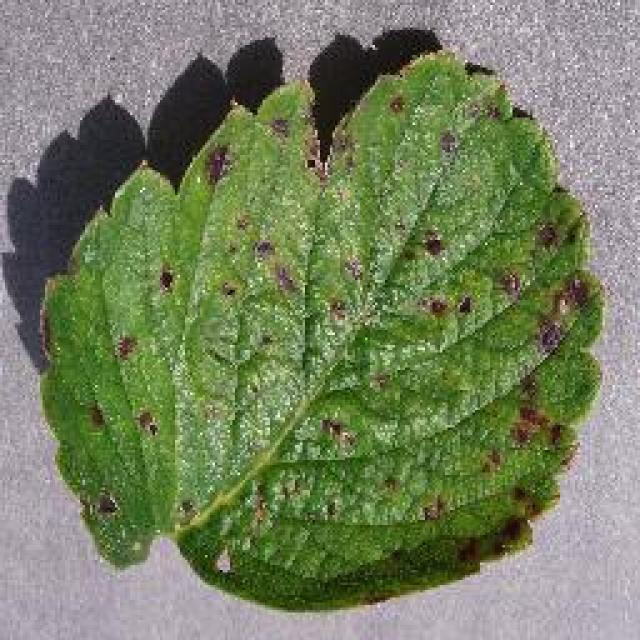Strawberry leaf scorch: (206, 140, 562, 527)
